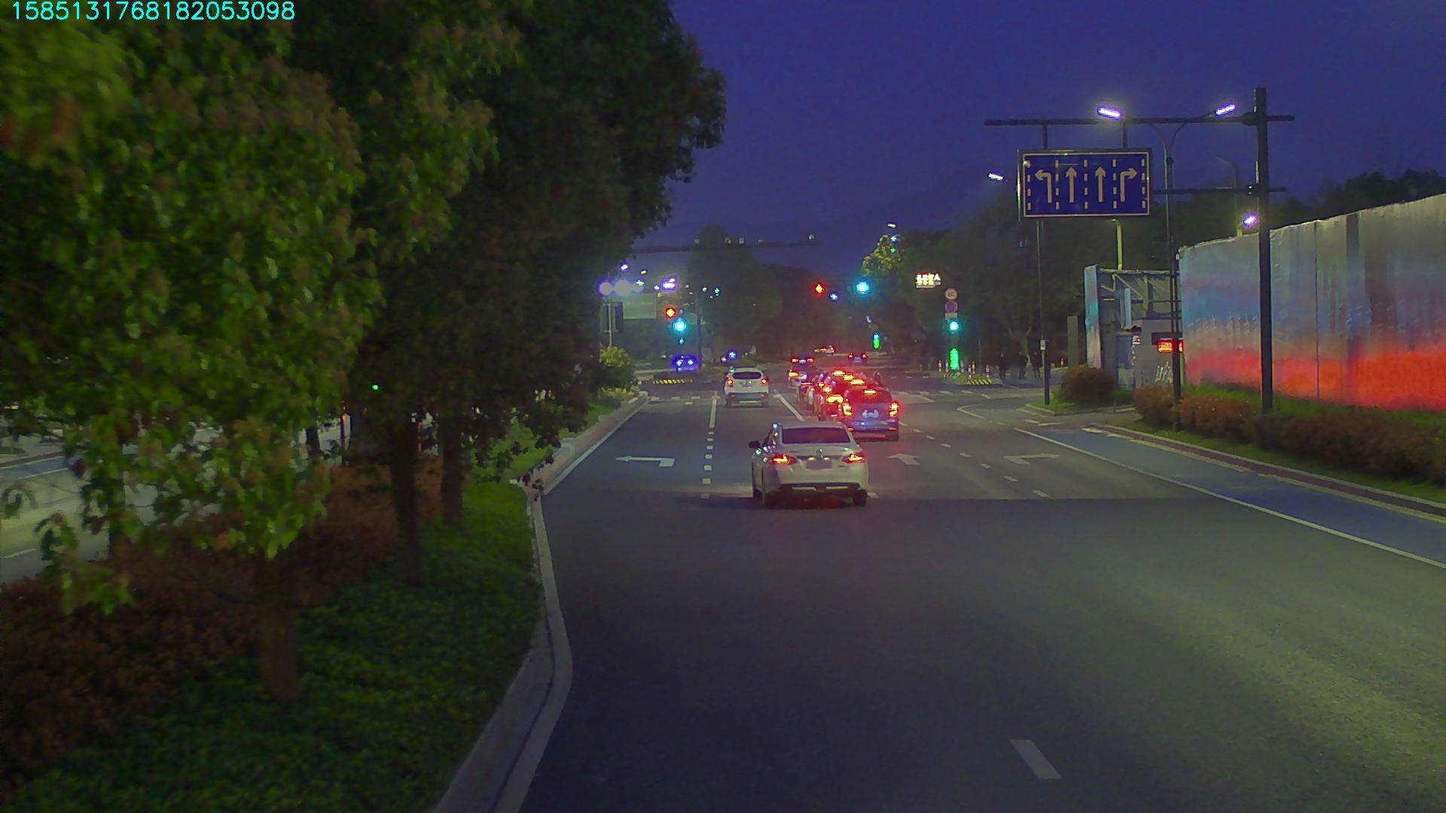green: (848, 278, 873, 299)
red: (813, 280, 828, 292)
